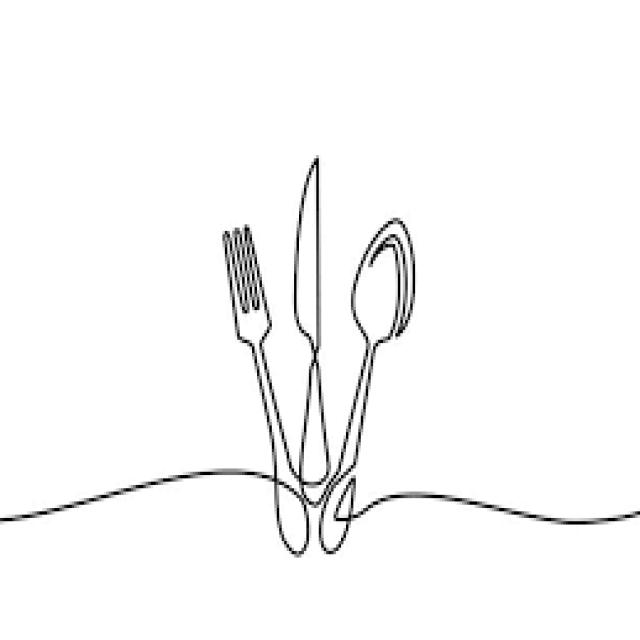Knife: (316, 214, 415, 551), (220, 221, 309, 554), (292, 152, 328, 498)
